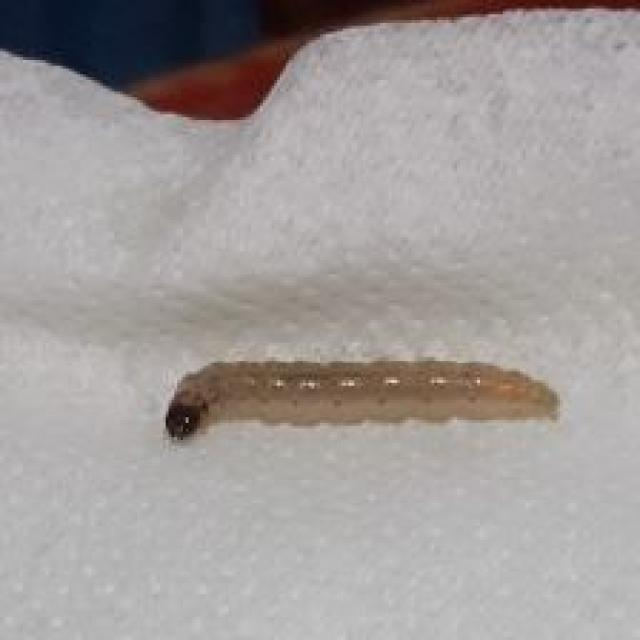white mucus: (146, 353, 580, 441)
